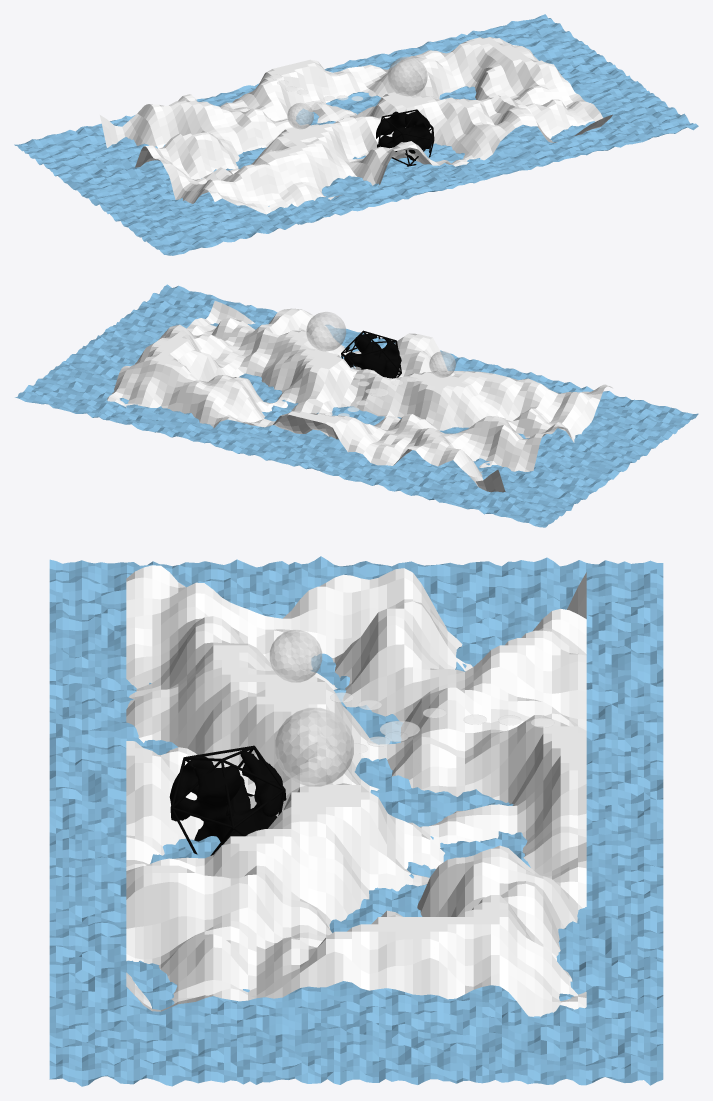
3 renders of one model, top to bottom at view 1: azimuth 30°, elevation 25°; view 2: azimuth 150°, elevation 25°; view 3: azimuth 270°, elevation 25°, orthographic. The views are drawn at different scales.
Parts seen in each view (by area): view 1: Valley, Water, CagedMatterBaked, DarkSphere, DarkSphere.001; view 2: Valley, Water, CagedMatterBaked, DarkSphere, DarkSphere.001; view 3: Valley, Water, CagedMatterBaked, DarkSphere, DarkSphere.001.
Boxes of the visible parts, box(x1,y1,x2,y2) form: Valley: box(100, 37, 612, 214); Water: box(14, 14, 698, 255); CagedMatterBaked: box(376, 109, 434, 166); DarkSphere: box(388, 56, 427, 96); DarkSphere.001: box(287, 103, 313, 129); Valley: box(107, 301, 612, 492); Water: box(15, 284, 698, 527); CagedMatterBaked: box(341, 330, 401, 378); DarkSphere: box(306, 312, 345, 351); DarkSphere.001: box(429, 351, 455, 377); Valley: box(126, 565, 586, 1016); Water: box(49, 556, 663, 1086); CagedMatterBaked: box(169, 745, 286, 855); DarkSphere: box(275, 708, 353, 786); DarkSphere.001: box(270, 630, 321, 682).
Bounding box in the file's own units: 40 × 6.37 × 20.
